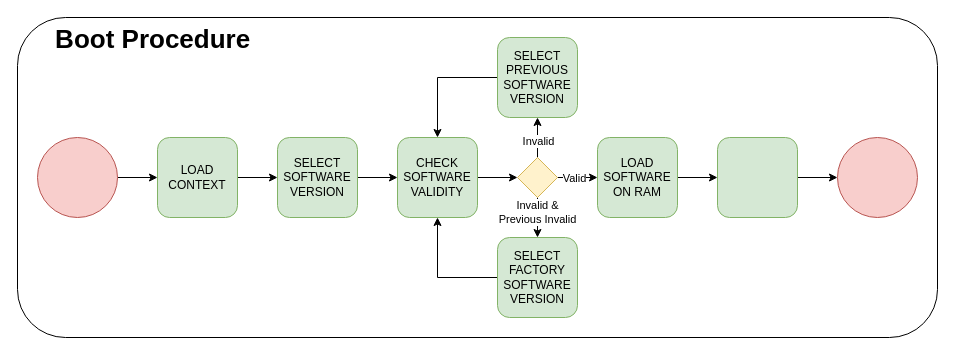
Image size: 955x355. Some labels were removed from this diagram. The centre of each missing label's shape, as x and y in pixels:
"FLIGHT SOFTWARE START" belongs at (877,177).
"START SOFTWARE ON RAM" belongs at (757,177).
"STARTUP" belongs at (77,177).
